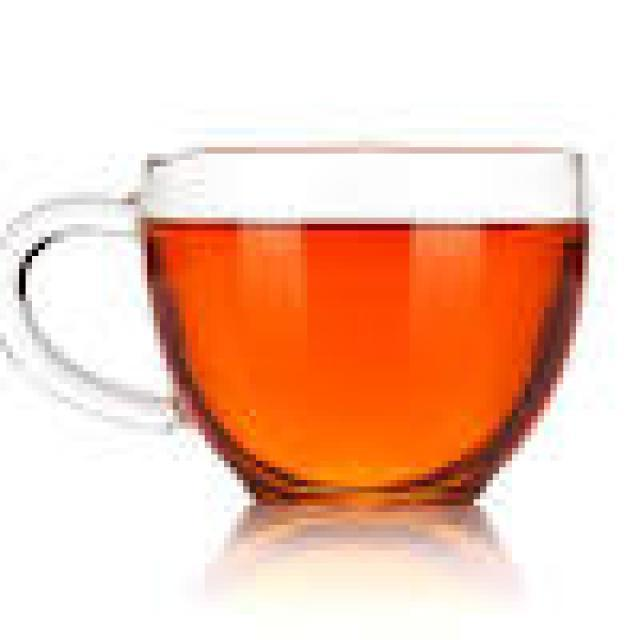taza: (5, 123, 602, 522)
